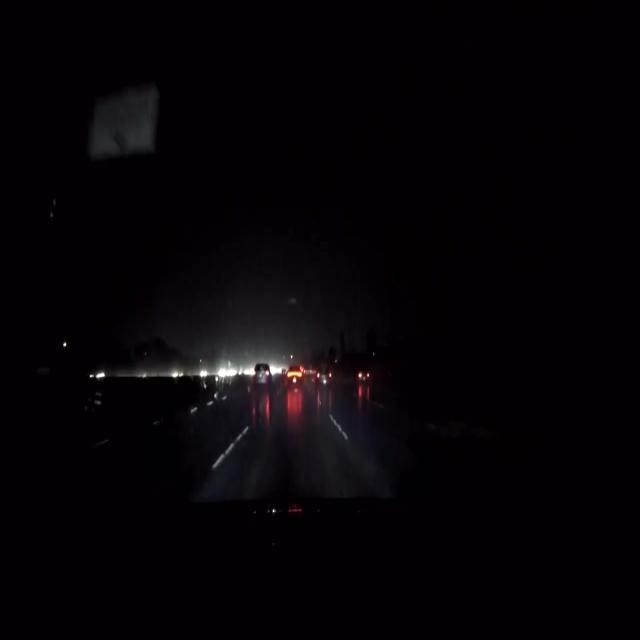Car: (250, 358, 272, 389)
